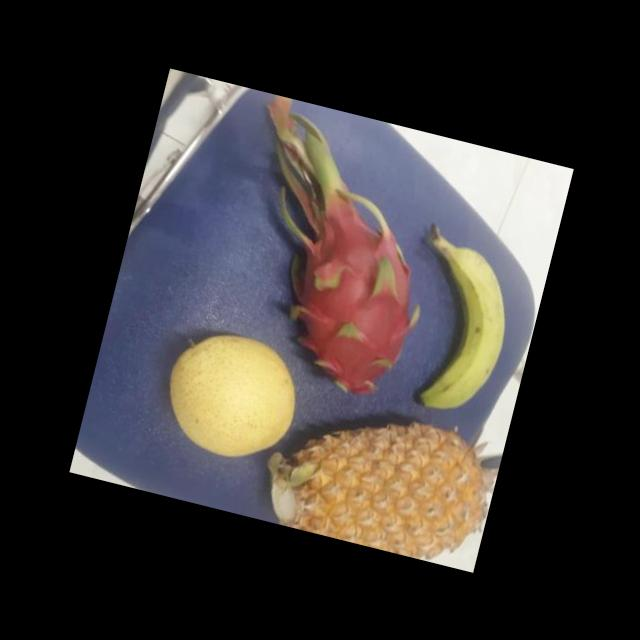banana: (384, 234, 522, 426)
pear: (154, 321, 308, 476)
pineapple: (258, 398, 499, 572)
pitaya: (262, 195, 438, 421)
